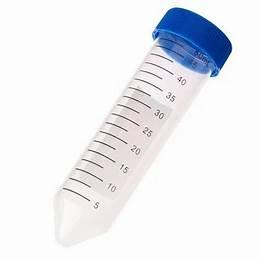Test tube: (45, 26, 251, 235)
